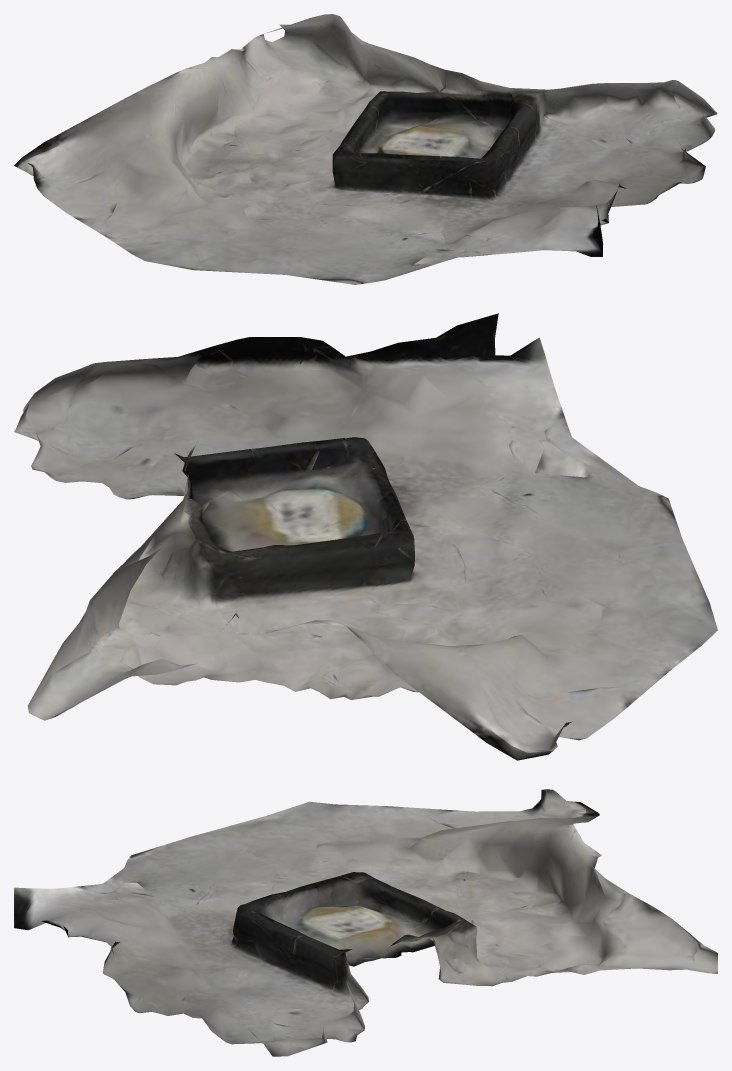
Rendered from hall.glb.
3 views of the same model, one above another, from view 1: azimuth 30°, elevation 25°; view 2: azimuth 150°, elevation 25°; view 3: azimuth 270°, elevation 25° (orthographic). The views are drawn at different scales.
Bounding box in the file's own units: 2.08 × 0.2729 × 2.2.
Materials: 1 (1 with a texture image).
